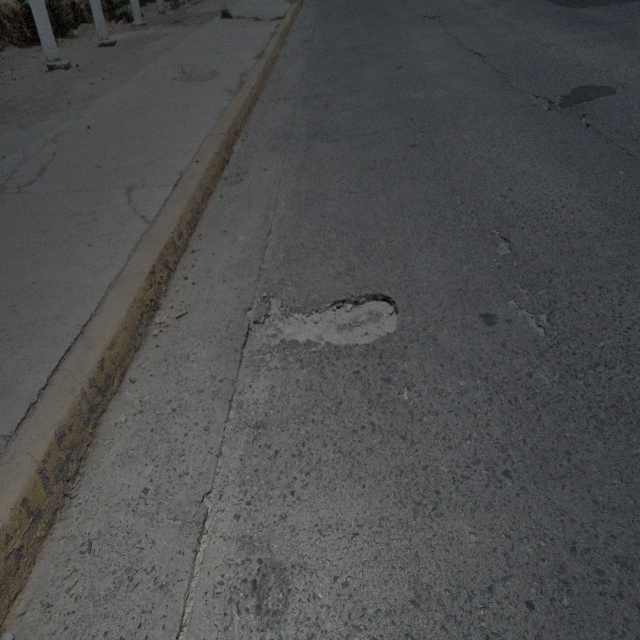pothole: (240, 292, 402, 348), (508, 291, 546, 338), (490, 224, 515, 260), (529, 90, 554, 114)
